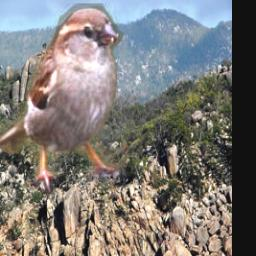Sparrow: (0, 3, 124, 194)
